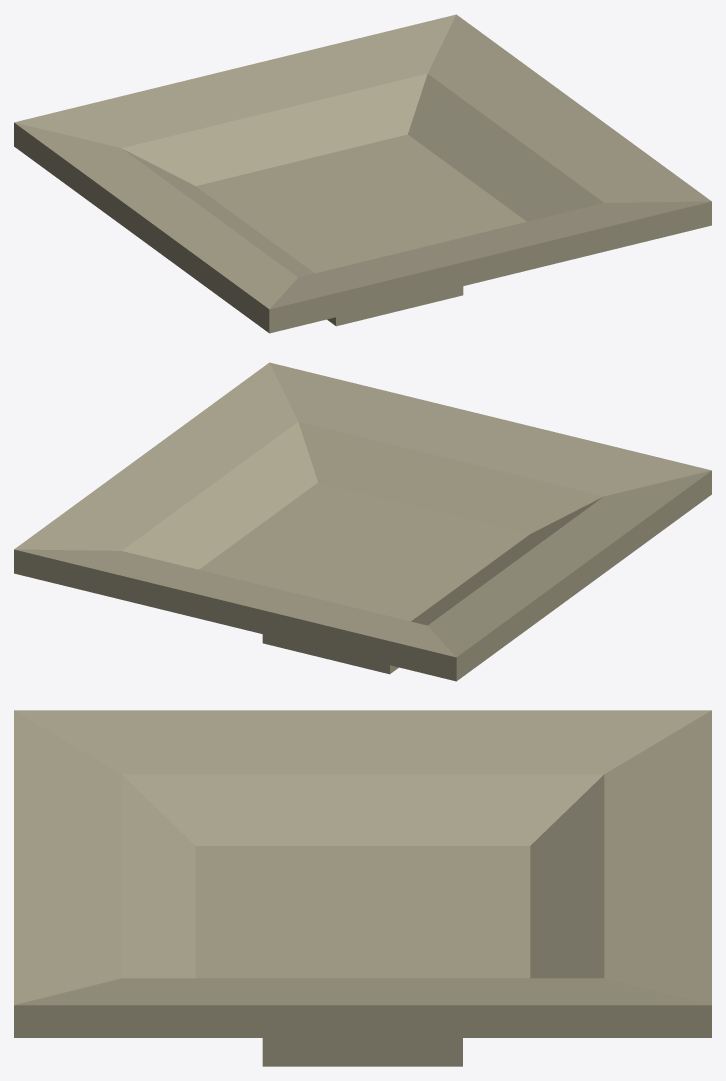
File: PS_Plate04.fbx
3 views of the same model, one above another, from view 1: azimuth 30°, elevation 25°; view 2: azimuth 150°, elevation 25°; view 3: azimuth 270°, elevation 25° (orthographic). The views are drawn at different scales.
Visible parts, largest first — view 1: PS_Plate04; view 2: PS_Plate04; view 3: PS_Plate04.
Part boxes in pixels (<box>): PS_Plate04: <box>14,14,711,333</box>; PS_Plate04: <box>14,362,711,681</box>; PS_Plate04: <box>14,710,711,1066</box>.
Size of the model in its own units: 0.2975 by 0.0784 by 0.2975.
